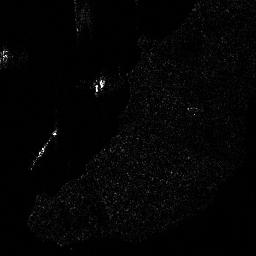ship: (34, 125, 60, 160)
